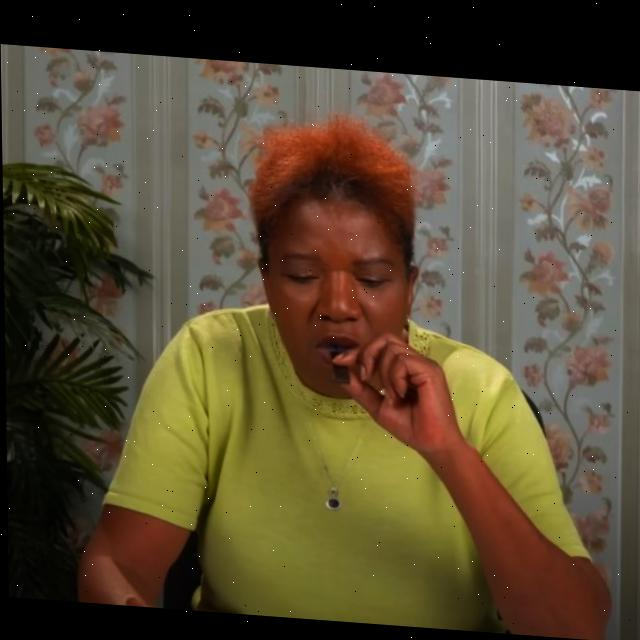vape: (328, 338, 350, 379)
